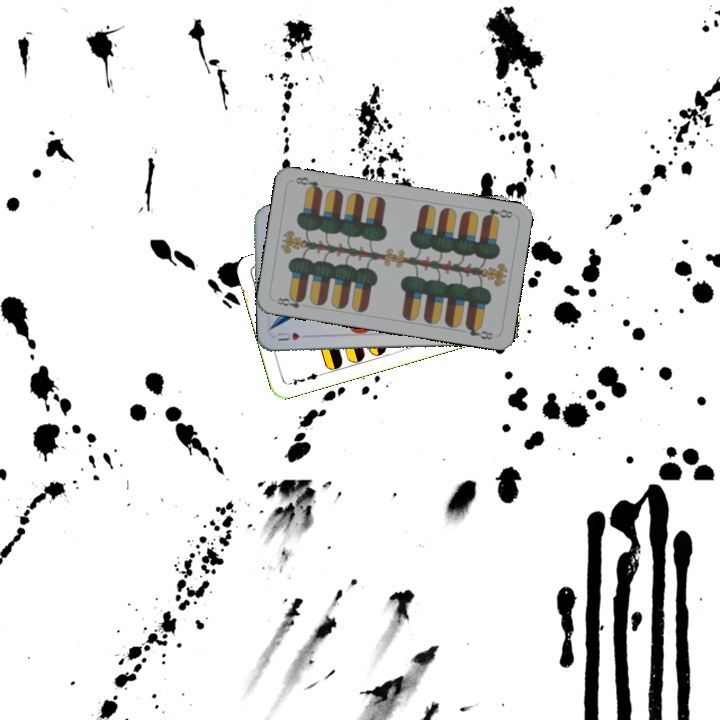E7: (284, 369, 324, 388)
E8: (479, 205, 515, 223), (273, 292, 307, 311)
HU: (273, 328, 313, 343)
